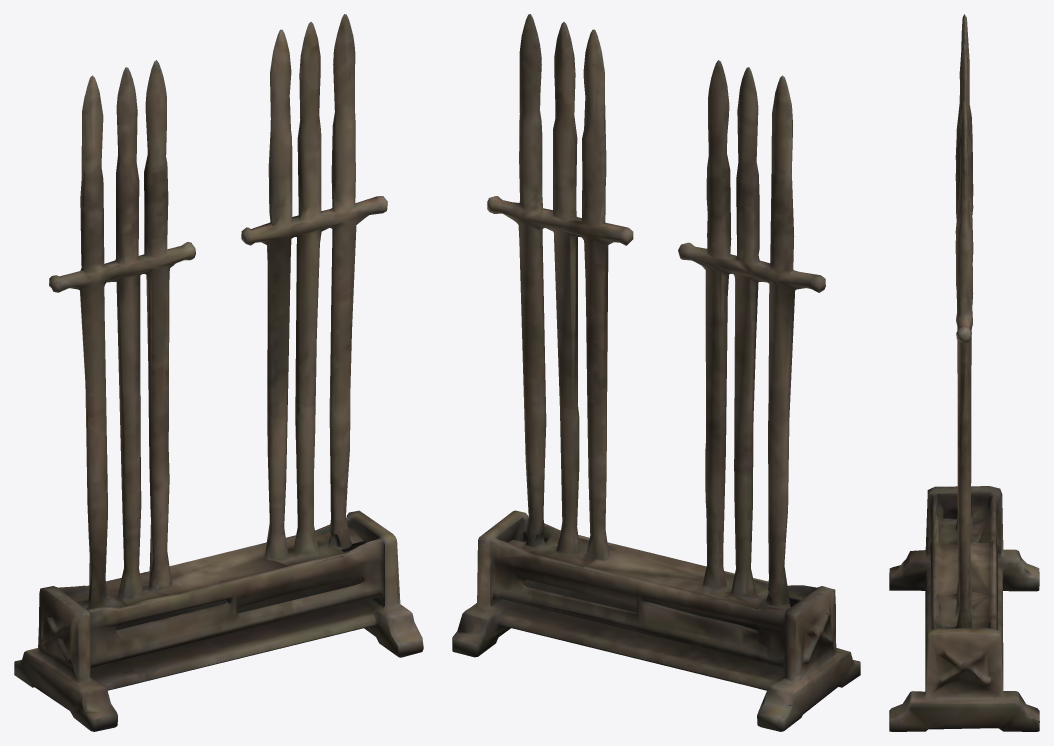
File: worn-wood-weapon-rack-v002.glb
The picture shows the model from 3 angles, left to right: view 1: azimuth 30°, elevation 25°; view 2: azimuth 150°, elevation 25°; view 3: azimuth 270°, elevation 25°; orthographic projection. The views are drawn at different scales.
Parts seen in each view (by area): view 1: worn-wood-weapon-rack; view 2: worn-wood-weapon-rack; view 3: worn-wood-weapon-rack.
Boxes of the visible parts, x1,y1,x2,y2 form: worn-wood-weapon-rack: (14,14,423,731); worn-wood-weapon-rack: (452,14,860,731); worn-wood-weapon-rack: (889,14,1039,731).
Size of the model in its own units: 0.8008 by 1.4 by 0.3271.
Materials: 1 (1 with a texture image).
